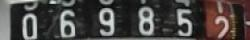digits: (172, 8, 192, 35), (96, 6, 114, 34), (22, 13, 40, 40), (137, 5, 153, 35), (58, 9, 75, 36), (211, 13, 227, 40)
